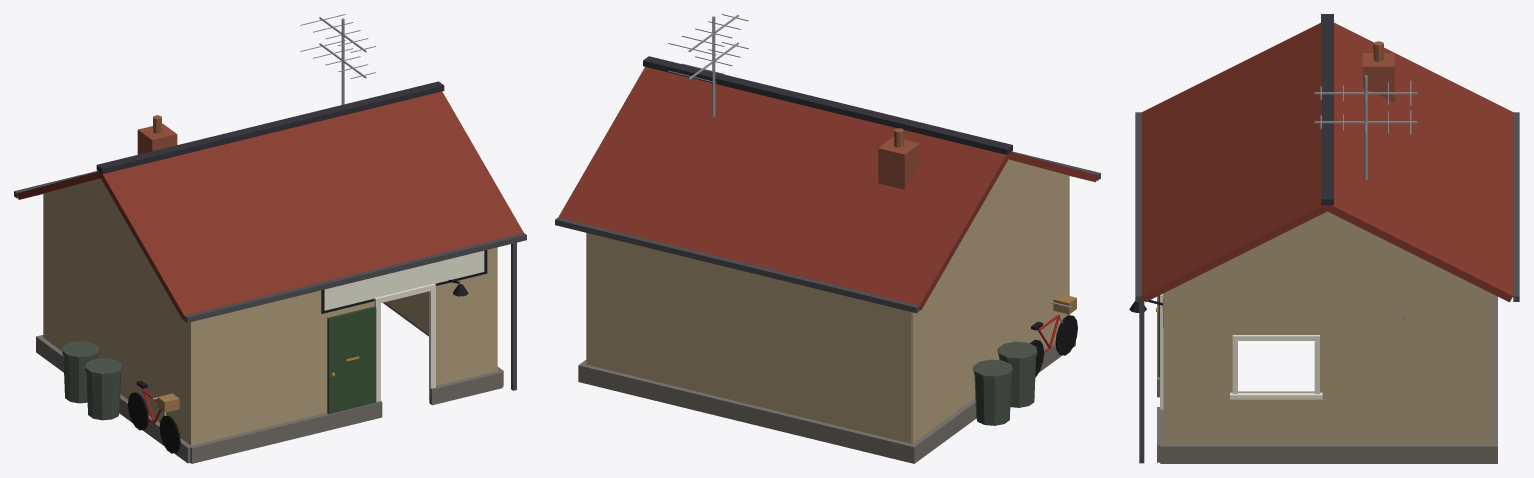
Rendered from room.hq.glb.
The picture shows the model from 3 angles, left to right: view 1: azimuth 30°, elevation 25°; view 2: azimuth 150°, elevation 25°; view 3: azimuth 270°, elevation 25°; orthographic projection. The views are drawn at different scales.
Visible parts, largest first — view 1: roof-f, skin-left, skin-front-l, skin-front-r, roof-gable-1, door-leaf, roof-ridge, plinth-front-l, sign-board, gutter1, bin1, plinth-front-r (+11 smaller); view 2: roof-b, skin-back, skin-left, plinth-back, roof-gable-1, roof-ridge, gutter-1, chimney, bin0, plinth-side-1, bin1, roof-f (+3 smaller); view 3: roof-f, roof-b, skin-right-a, roof-gable1, skin-right-b, plinth-side1, skin-right-d, skin-right-c, roof-ridge, gutter-1, gutter1, chimney (+6 smaller).
Boxes of the visible parts, x1,y1,x2,y2 form: roof-f: [99, 91, 523, 319]; skin-left: [43, 199, 191, 445]; skin-front-l: [191, 290, 374, 445]; skin-front-r: [436, 247, 497, 385]; roof-gable-1: [43, 178, 175, 308]; door-leaf: [327, 306, 376, 414]; roof-ridge: [96, 81, 444, 174]; plinth-front-l: [190, 401, 382, 463]; sign-board: [324, 250, 484, 310]; gutter1: [184, 233, 526, 322]; bin1: [86, 372, 121, 420]; plinth-front-r: [429, 370, 502, 405]; roof-b: [558, 67, 1009, 309]; skin-back: [586, 233, 911, 443]; skin-left: [912, 176, 1069, 443]; plinth-back: [578, 363, 917, 463]; roof-gable-1: [928, 159, 1069, 298]; roof-ridge: [643, 56, 1012, 154]; gutter-1: [555, 217, 919, 313]; chimney: [878, 137, 919, 189]; bin0: [974, 374, 1011, 425]; plinth-side-1: [913, 339, 1075, 461]; bin1: [999, 356, 1035, 407]; roof-f: [1007, 152, 1097, 182]; roof-f: [1141, 23, 1330, 302]; roof-b: [1326, 22, 1513, 302]; skin-right-a: [1314, 284, 1491, 443]; roof-gable1: [1163, 211, 1491, 304]; skin-right-b: [1163, 284, 1237, 443]; plinth-side1: [1160, 444, 1494, 463]; skin-right-d: [1238, 284, 1314, 334]; skin-right-c: [1238, 391, 1314, 443]; roof-ridge: [1321, 14, 1333, 205]; gutter-1: [1513, 112, 1519, 301]; gutter1: [1135, 112, 1141, 301]; chimney: [1362, 53, 1394, 102].
Bounding box in the file's own units: 7.19 × 6.05 × 6.09.
